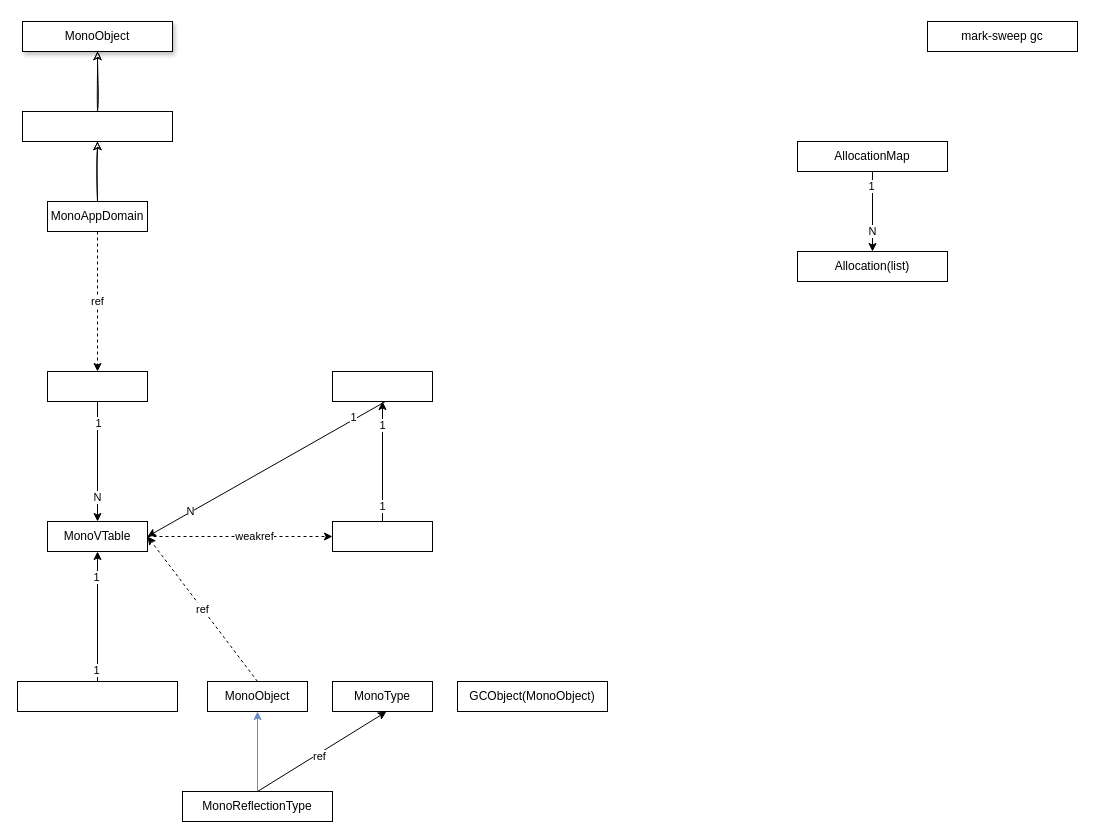
This 1095x839 diagram has some shape labels left out. Here are the shapes that lost their labels. From the top down, the centre of each, then its label:
pixel 97 126: MonoMarshalByRefObject
pixel 97 386: MonoDomain
pixel 382 386: RunTimeInfo
pixel 382 536: MonoClass
pixel 97 696: MonoGCDescriptor(guint64)
